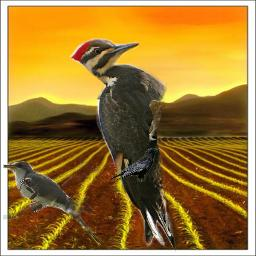Crow: (111, 148, 160, 182)
Cuckoo: (3, 161, 101, 245)
Woodpecker: (70, 38, 177, 252)
